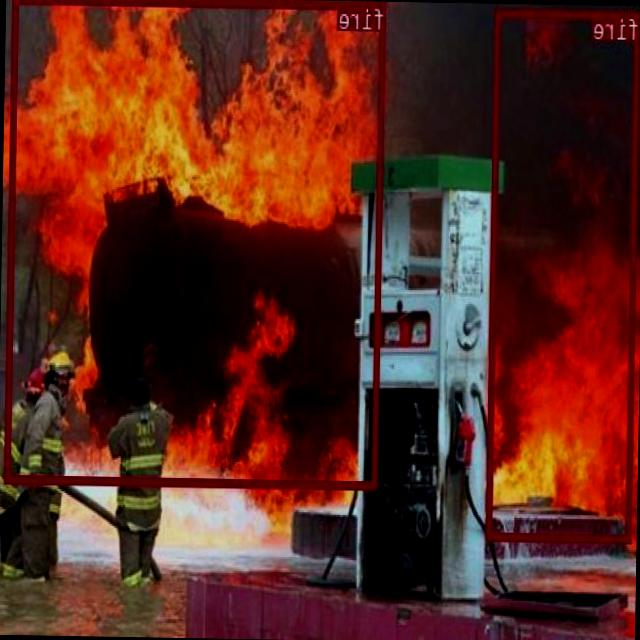fire: (5, 0, 386, 489), (487, 8, 640, 542)
